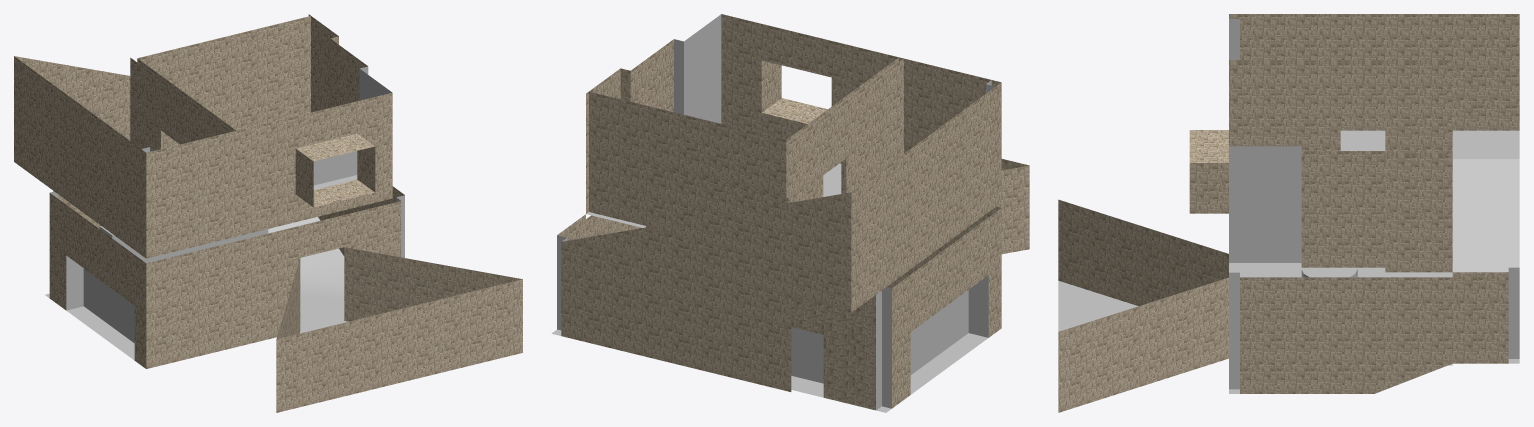
The model's file is s0_playerhomephys.fbx.
The picture shows the model from 3 angles, left to right: view 1: azimuth 30°, elevation 25°; view 2: azimuth 150°, elevation 25°; view 3: azimuth 270°, elevation 25°; orthographic projection. The views are drawn at different scales.
Visible parts, largest first — view 1: Main Phys, Cam 0; view 2: Main Phys, Cam 0, Cam 2; view 3: Main Phys, Cam 1, Cam 0, Cam 0 Exit.
Part boxes in pixels (x1,y1,x2,y2): Main Phys: (14, 14, 522, 412); Cam 0: (45, 217, 344, 360); Main Phys: (557, 14, 1029, 410); Cam 0: (791, 333, 987, 412); Cam 2: (586, 163, 841, 227); Main Phys: (1058, 14, 1519, 412); Cam 1: (1340, 130, 1519, 363); Cam 0: (1229, 263, 1452, 393); Cam 0 Exit: (1058, 280, 1137, 331).
Size of the model in its own units: 1088 by 752 by 1320.
